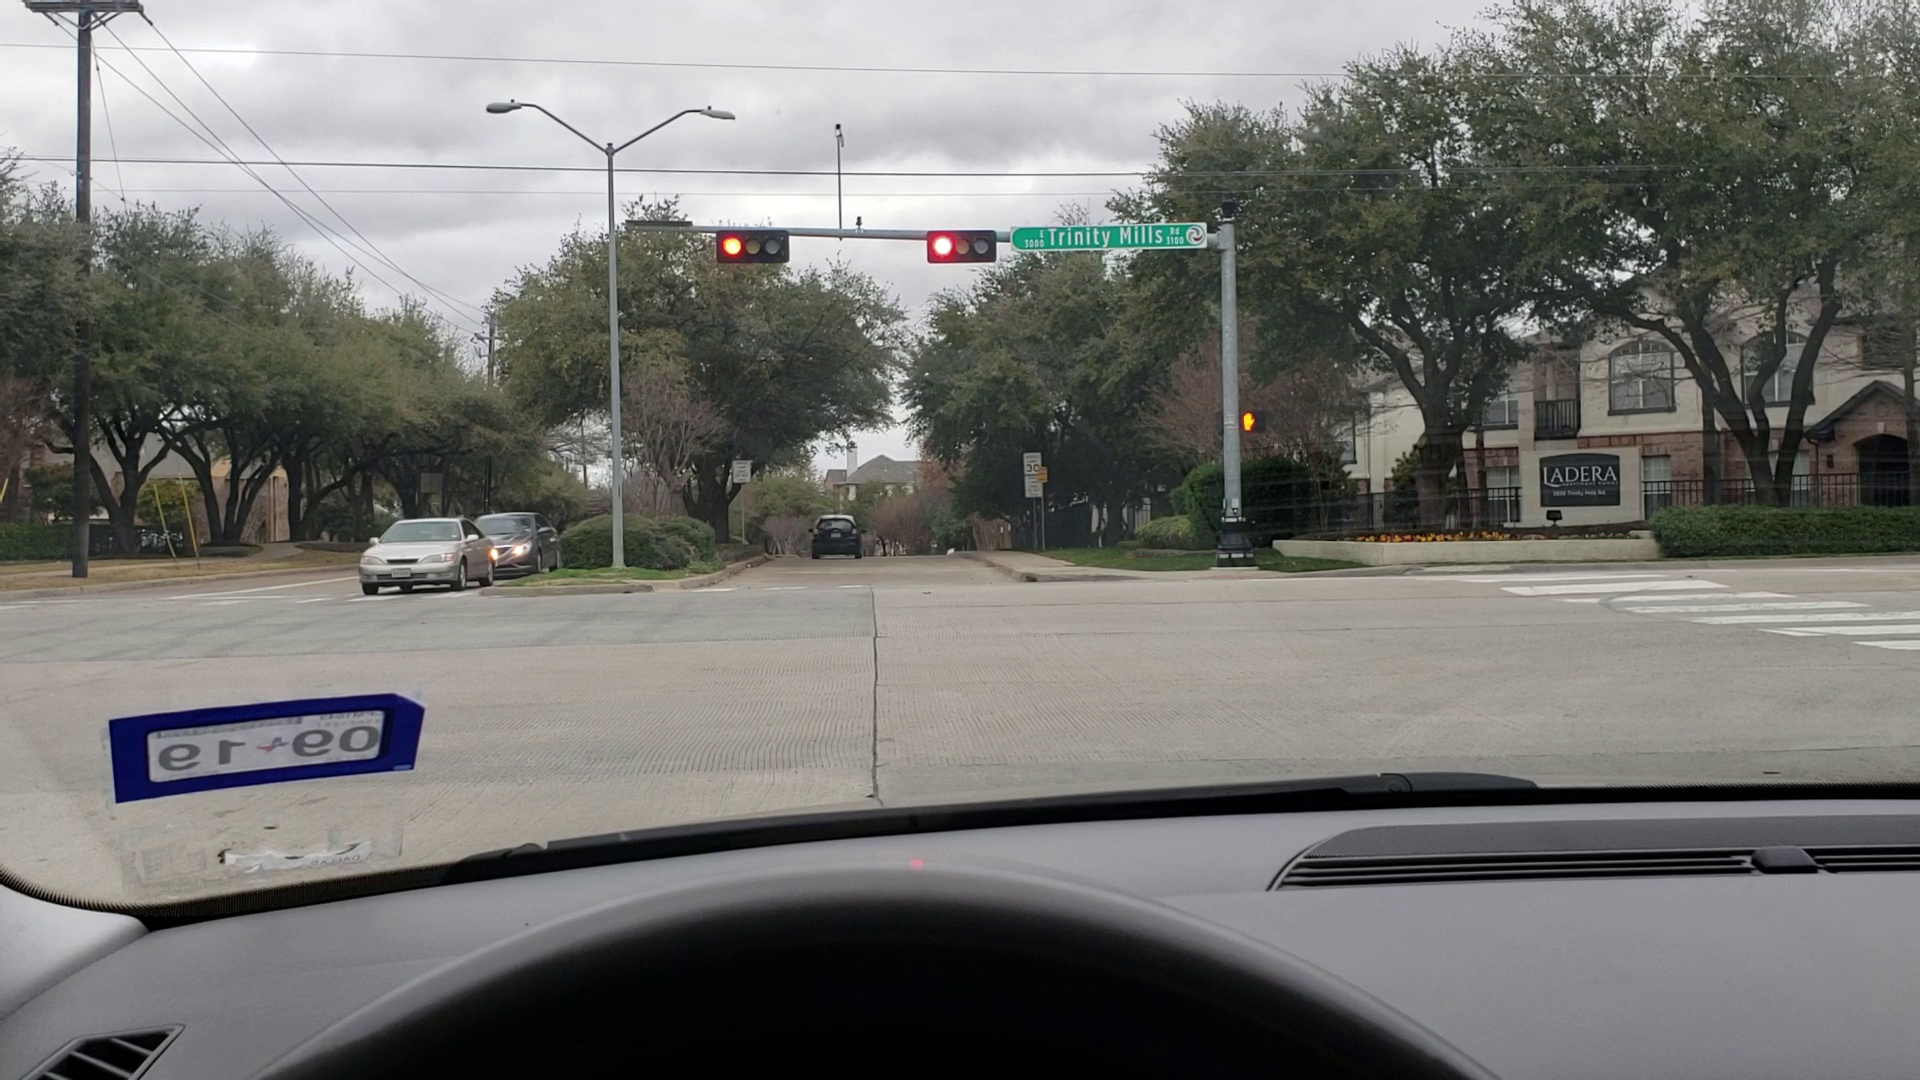car: (356, 509, 497, 597), (477, 513, 562, 582), (808, 508, 866, 560)
traffic light: (715, 225, 793, 265), (927, 231, 998, 258)
